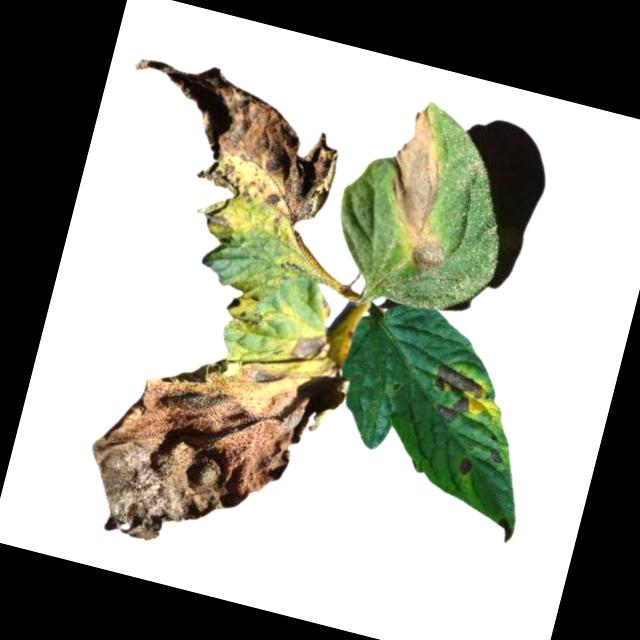Early_blight: (74, 313, 343, 579), (101, 46, 357, 257), (366, 103, 479, 276), (424, 361, 489, 428), (288, 325, 335, 365), (493, 513, 517, 544), (456, 453, 478, 478), (487, 446, 508, 466), (224, 295, 243, 311)
